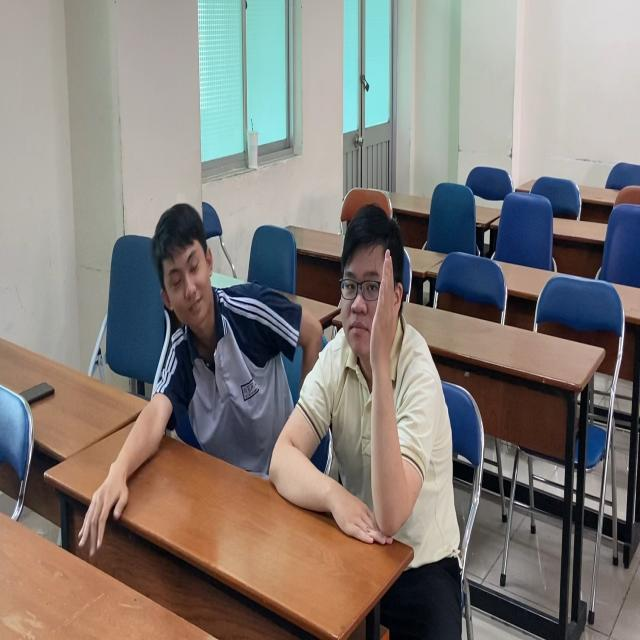raise_hand: (315, 197, 452, 555)
